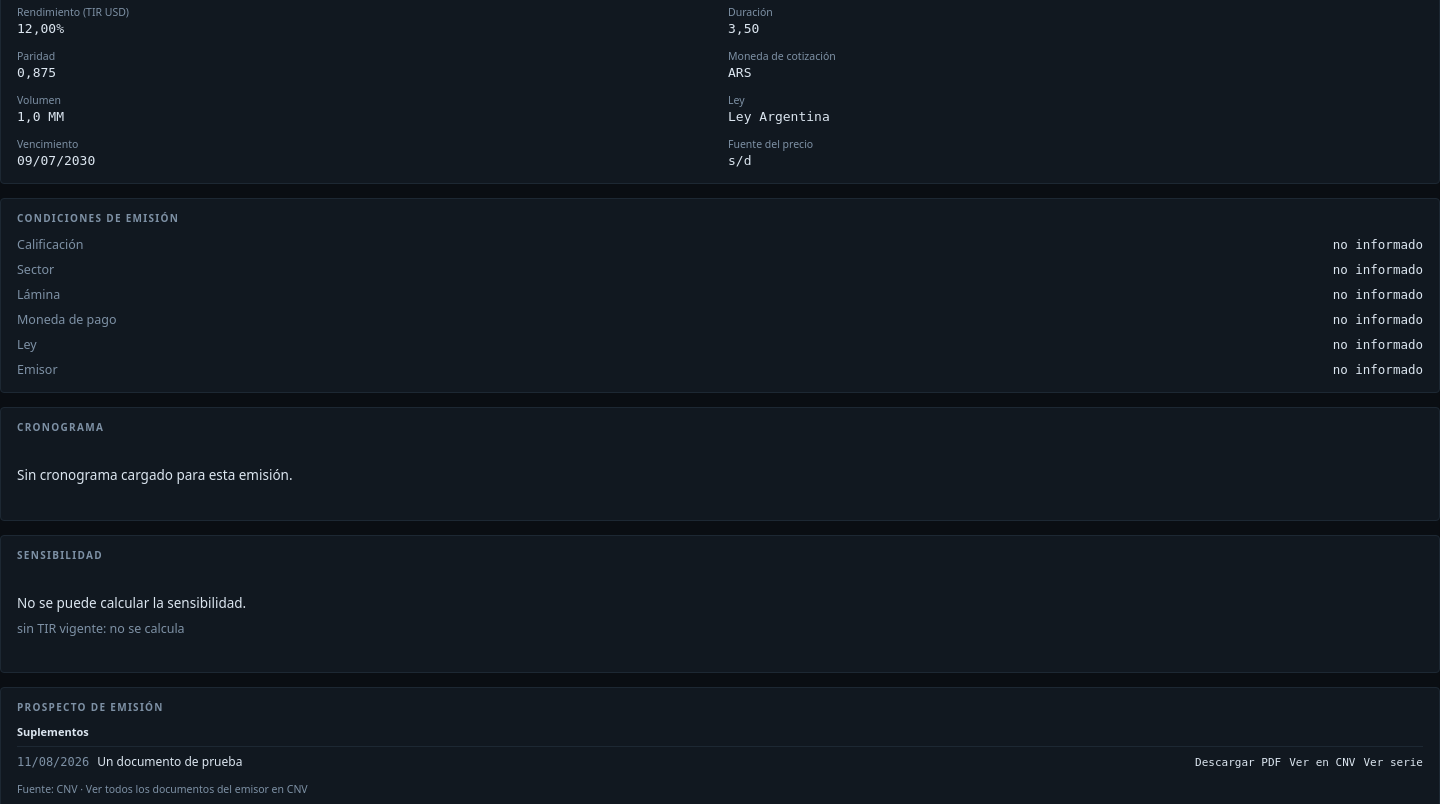
Scenario: prospecto de emisión › declara cuando el documento no dice a qué serie corresponde
The width and height of the screenshot is (1440, 804).
(page scrolled)
Click the button "Ver serie": (1393, 763) [1363,755,1423,771]
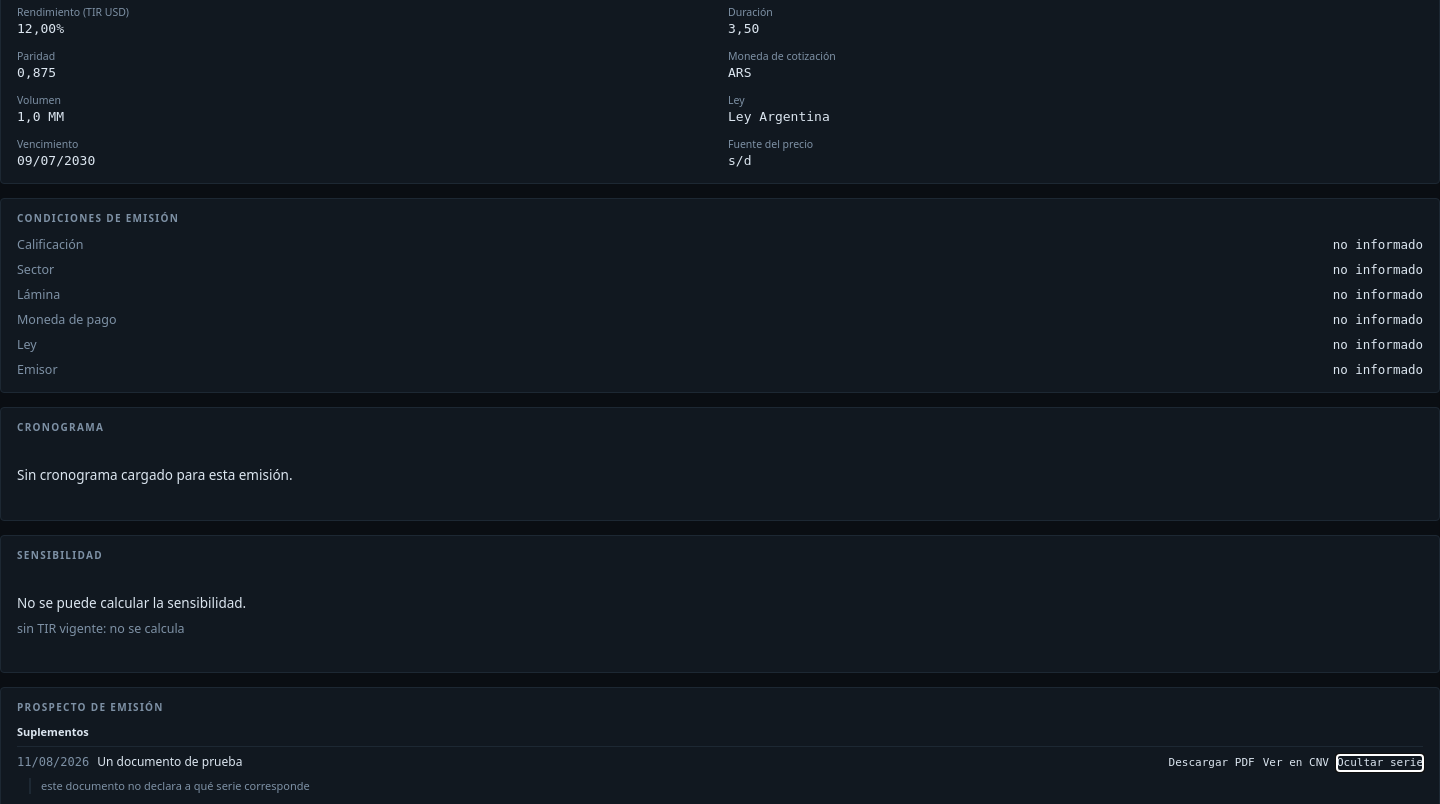
Result: the text "este documento no declara a qué serie corresponde" is shown at [41,778,310,793]
